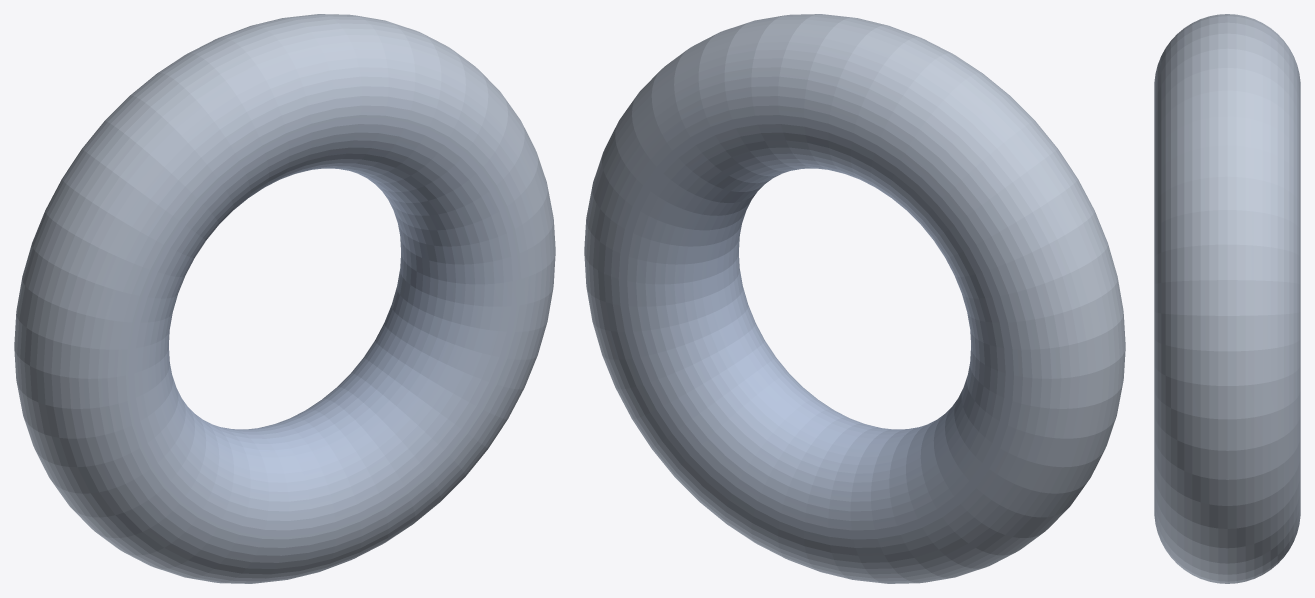
3 views of the same model, side by side, from view 1: azimuth 30°, elevation 25°; view 2: azimuth 150°, elevation 25°; view 3: azimuth 270°, elevation 25° (orthographic). The views are drawn at different scales.
Parts seen in each view (by area): view 1: world; view 2: world; view 3: world.
Boxes of the visible parts, left/top/right/bottom form: world: left=14, top=14, right=555, bottom=583; world: left=584, top=14, right=1125, bottom=583; world: left=1154, top=14, right=1300, bottom=583.
Size of the model in its own units: 23.33 by 23.29 by 5.99.
